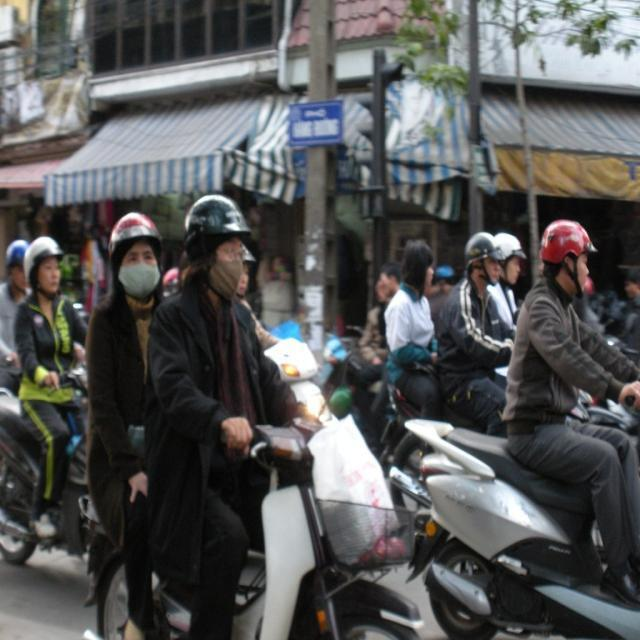motorcycle: (69, 403, 437, 640), (404, 402, 640, 640)
